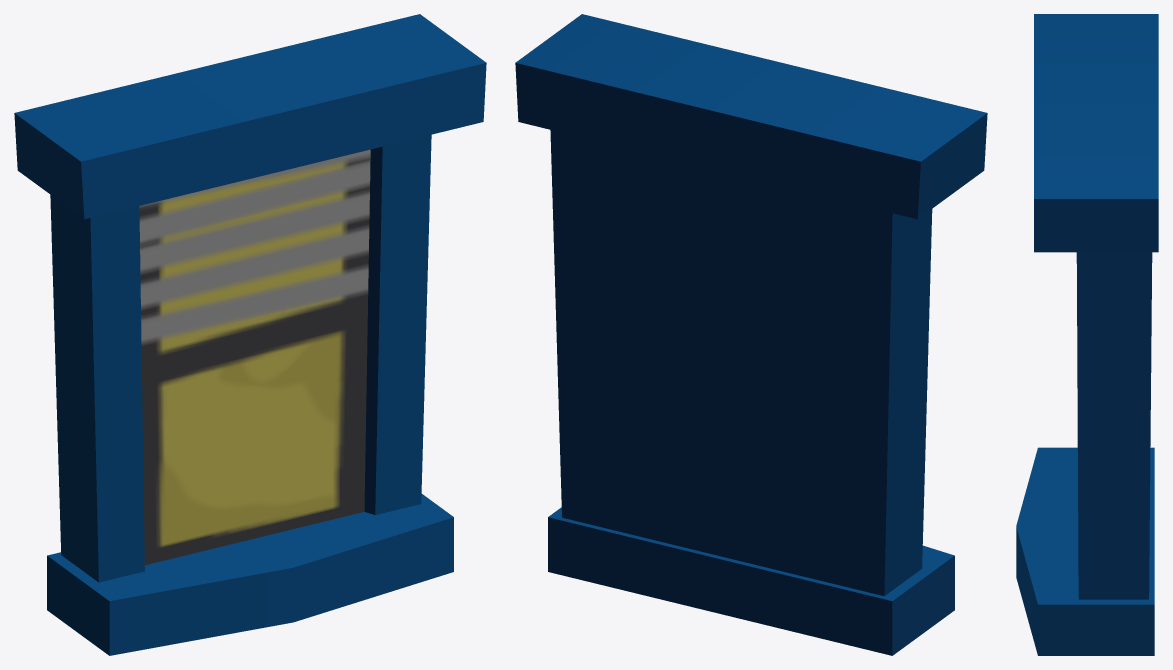
The model's file is Window_A03.fbx.
3 renders of one model, left to right at view 1: azimuth 30°, elevation 25°; view 2: azimuth 150°, elevation 25°; view 3: azimuth 270°, elevation 25°, orthographic. The views are drawn at different scales.
Visible parts, largest first — view 1: Window_A03; view 2: Window_A03; view 3: Window_A03.
Part boxes in pixels (<box>): Window_A03: <box>14,14,486,655</box>; Window_A03: <box>515,14,987,655</box>; Window_A03: <box>1016,14,1158,655</box>.
Size of the model in its own units: 158 by 187 by 51.42.
Materials: 1 (1 with a texture image).
